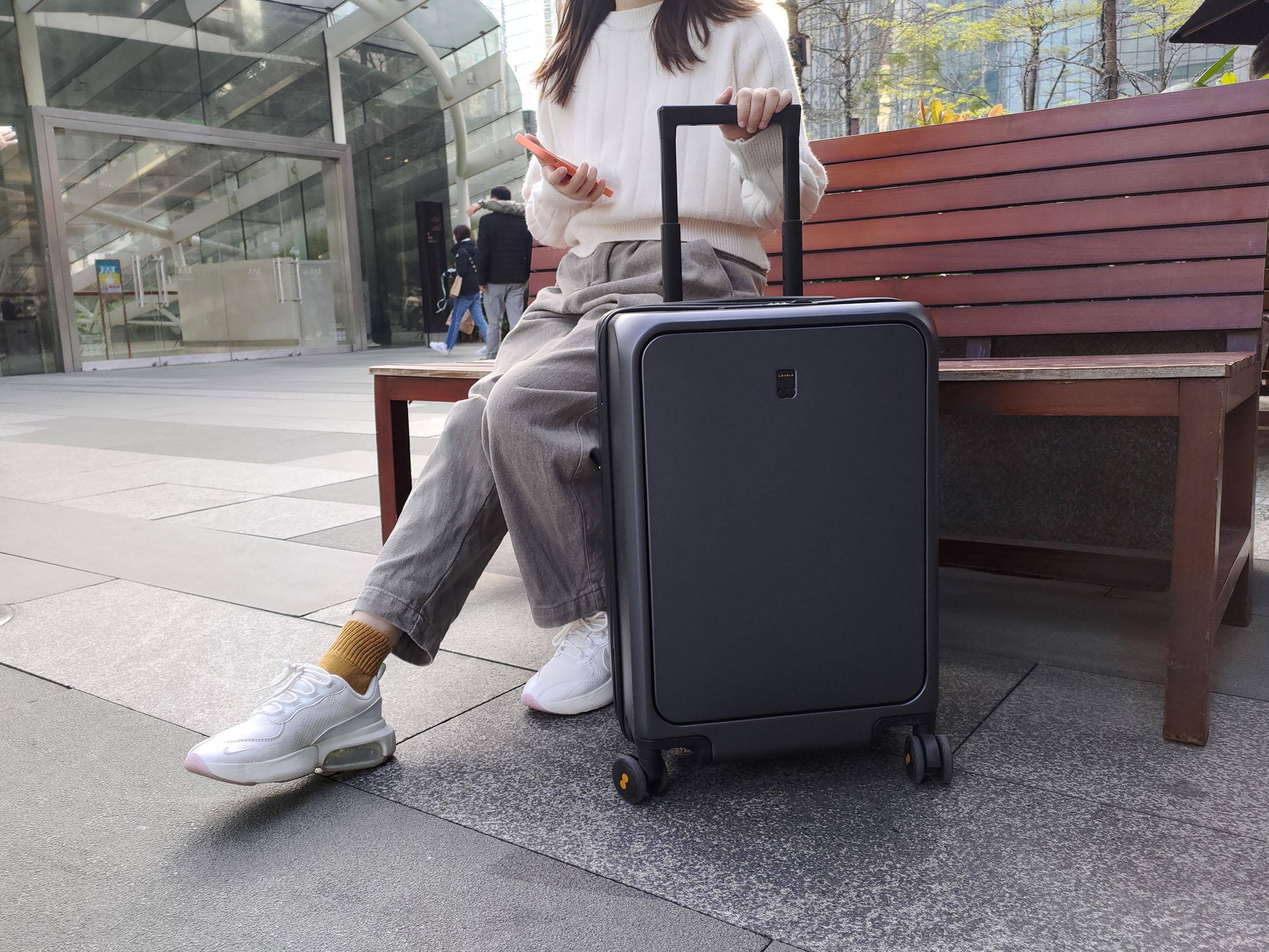box: (594, 296, 940, 762)
wheel: (611, 751, 669, 804), (904, 734, 953, 785)
